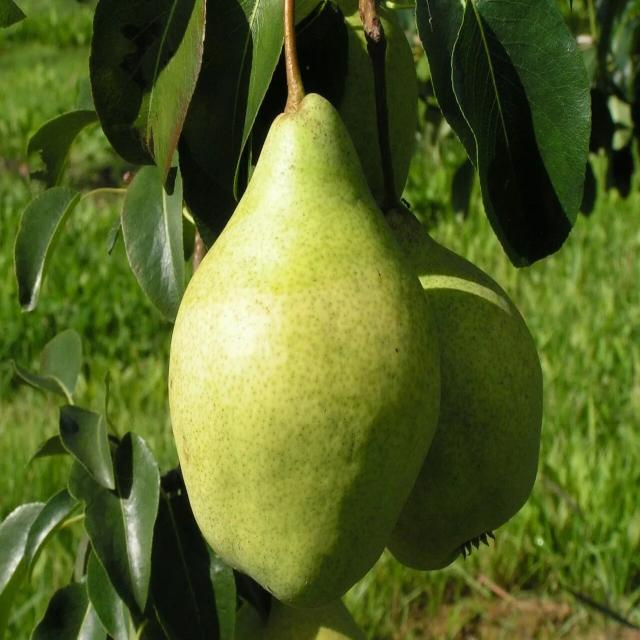pear: (166, 92, 442, 604)
